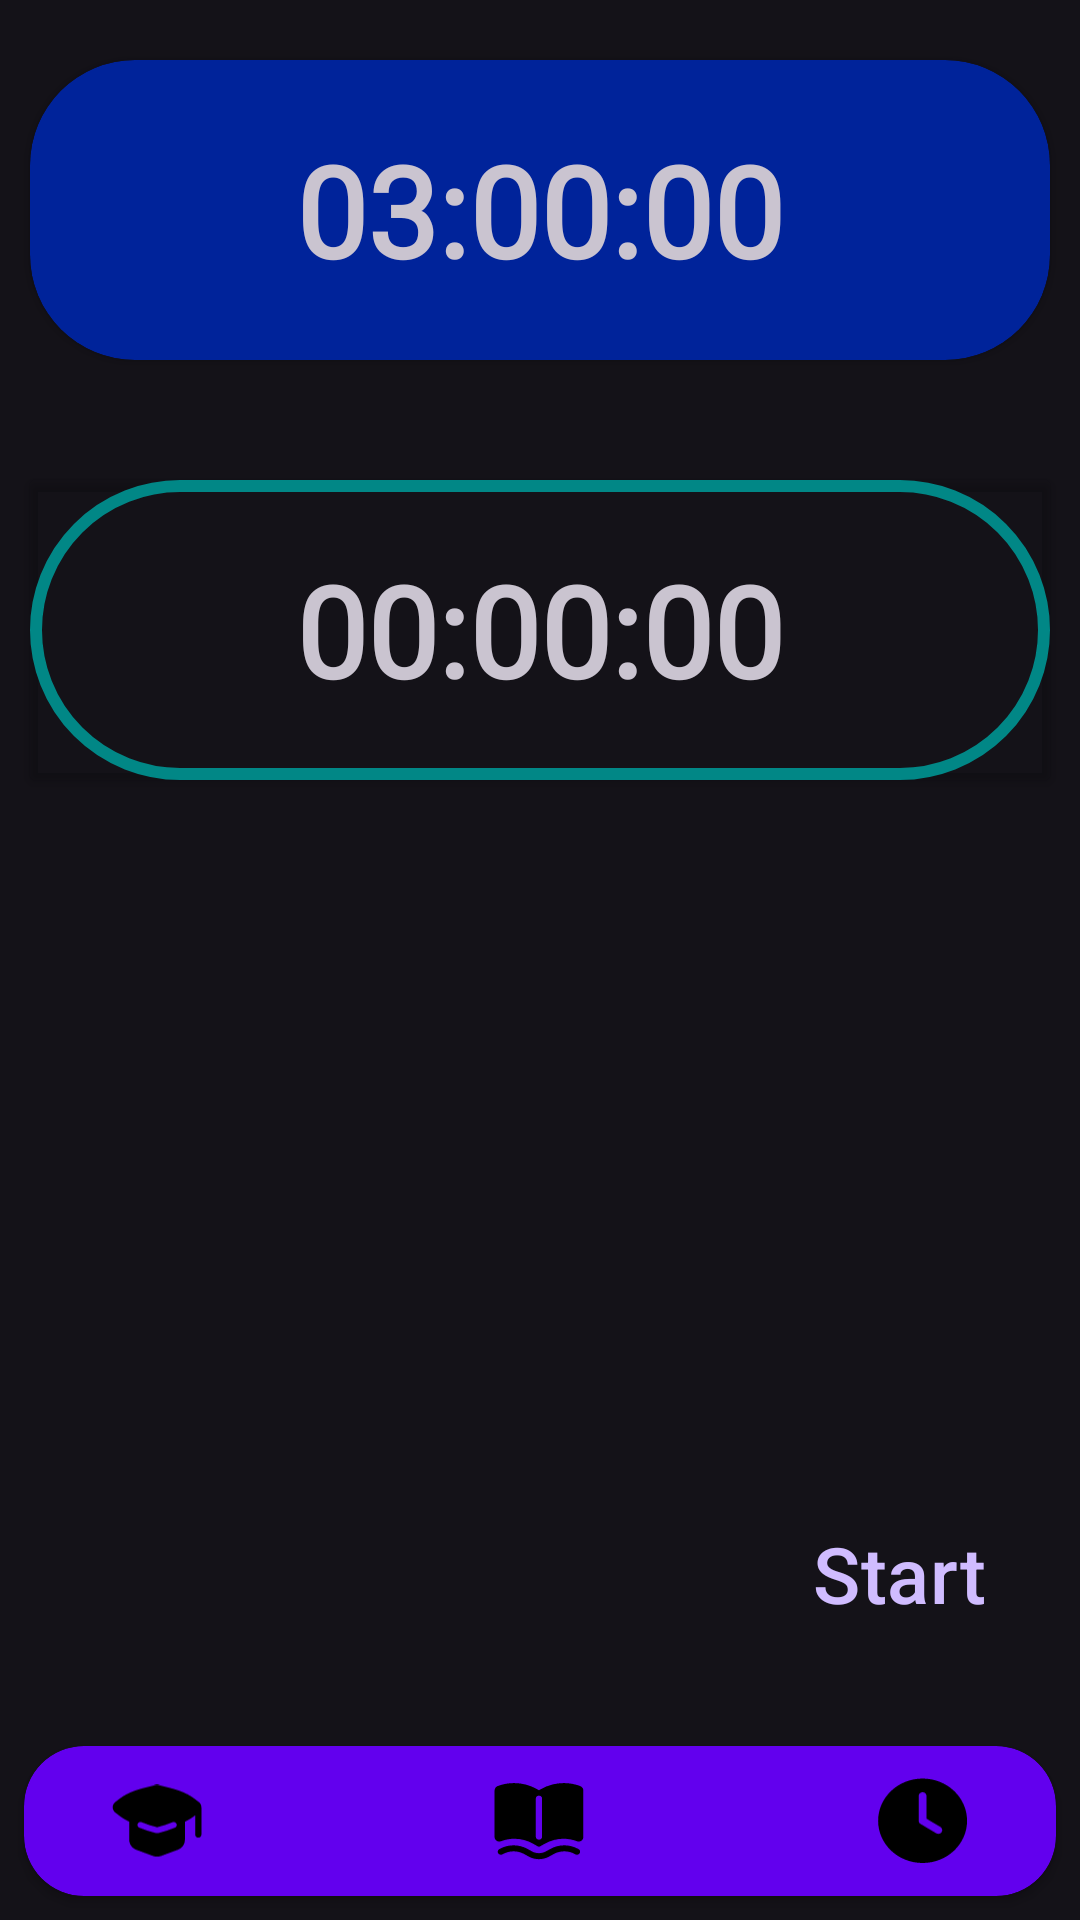

Icon bounding boxes for this 1080w x 1920h phone screenshot, format [x1=x1, y1=y1, x2=x2, y2=y2]:
history: [x1=878, y1=1778, x2=967, y2=1863]
Practise: [x1=494, y1=1783, x2=584, y2=1860]
